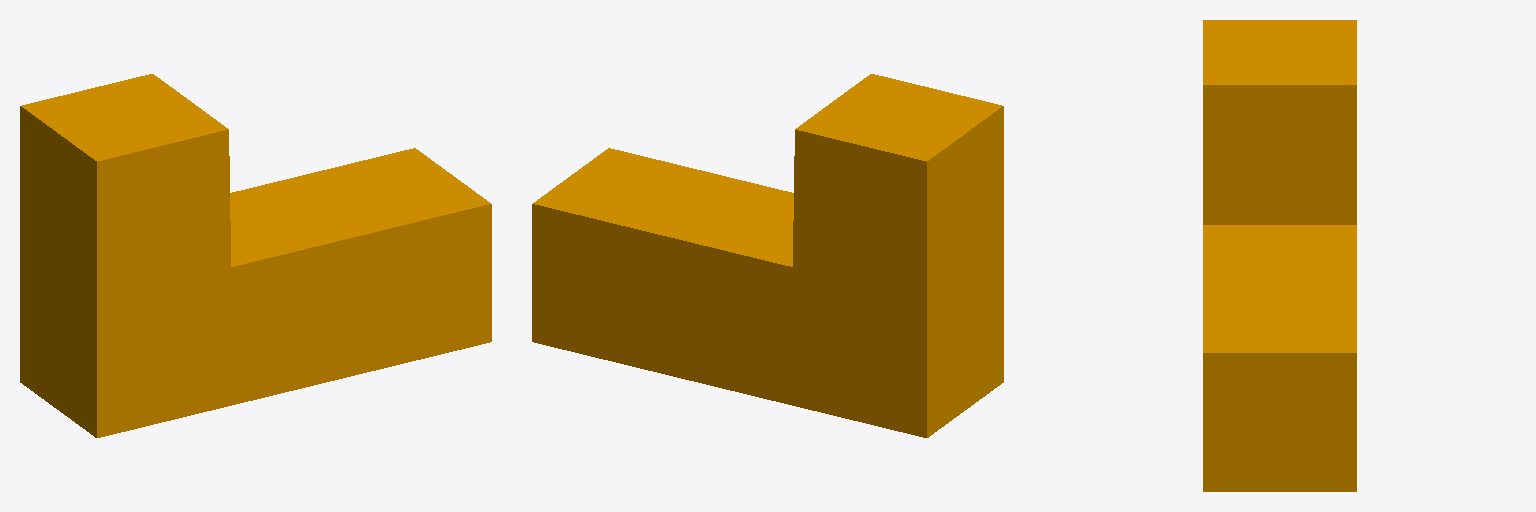
robot.urdf — 2_3L_2:
<robot name="2_3L_2">
  <link name="link">
    <visual>
      <geometry>
        <mesh filename="2_3L_2.obj" scale="1 1 1"/>
      </geometry>
    </visual>
    <collision>
      <geometry>
        <mesh filename="2_3L_2.obj" scale="1 1 1"/>
      </geometry>
    </collision>
    <inertial>
      <mass value="1"/>
      <inertia ixx="1" iyy="1" izz="1" ixy="0" ixz="0" iyz="0"/>
      <origin xyz="0 0 0" rpy="0 0 0"/>
    </inertial>
  </link>
</robot>

--- Render facts (derived) ---
Views: 3 orthographic renders of the robot side by side, from view 1: azimuth 30°, elevation 25°; view 2: azimuth 150°, elevation 25°; view 3: azimuth 270°, elevation 25°.
Model 2_3L_2 with 1 links and 0 joints (none), rooted at link, posed all joints at 0.
Visible links, largest first — view 1: link; view 2: link; view 3: link.
Link boxes in pixels (x1=…): link: x1=20, y1=74, x2=491, y2=437; link: x1=532, y1=74, x2=1003, y2=437; link: x1=1203, y1=20, x2=1356, y2=491.
Size in the robot's own frame: 0.1767 by 0.0592 by 0.1184 metres.
1 mesh visuals loaded from 1 distinct referenced files (1 OBJ).